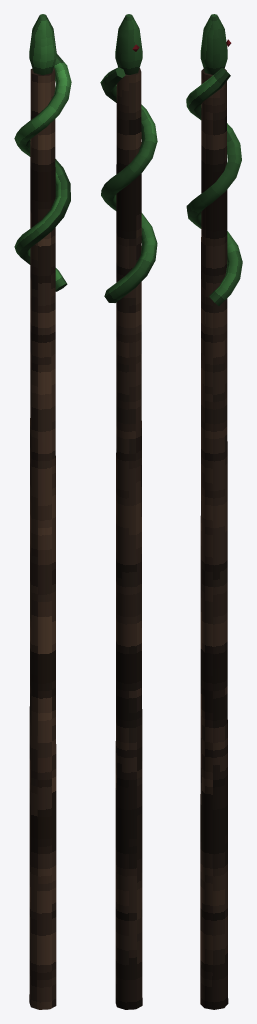
File: serpent_staff.glb
3 views of the same model, side by side, from view 1: azimuth 30°, elevation 25°; view 2: azimuth 210°, elevation 25°; view 3: azimuth 270°, elevation 25° (orthographic).
Parts seen in each view (by area): view 1: serpent_staff; view 2: serpent_staff; view 3: serpent_staff.
Part boxes in pixels (left/top/right/bottom): serpent_staff: left=14, top=14, right=71, bottom=1009; serpent_staff: left=100, top=14, right=157, bottom=1009; serpent_staff: left=186, top=14, right=242, bottom=1009.
Bounding box in the file's own units: 0.0649 × 1.25 × 0.0649.
1 material, 1 textured.
